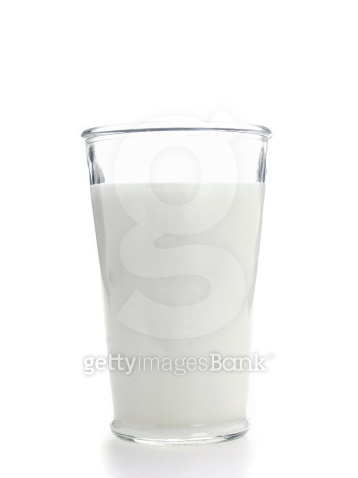glass of milk: (76, 124, 276, 451)
